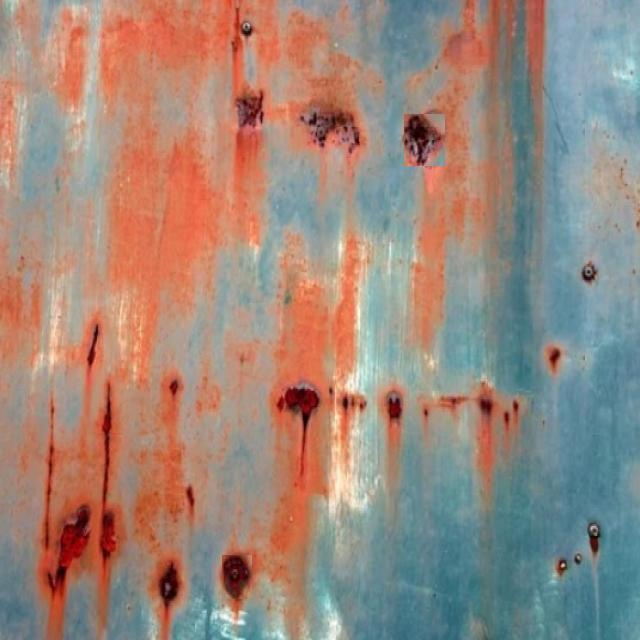Corrosion: (0, 0, 639, 639), (275, 384, 320, 479)
